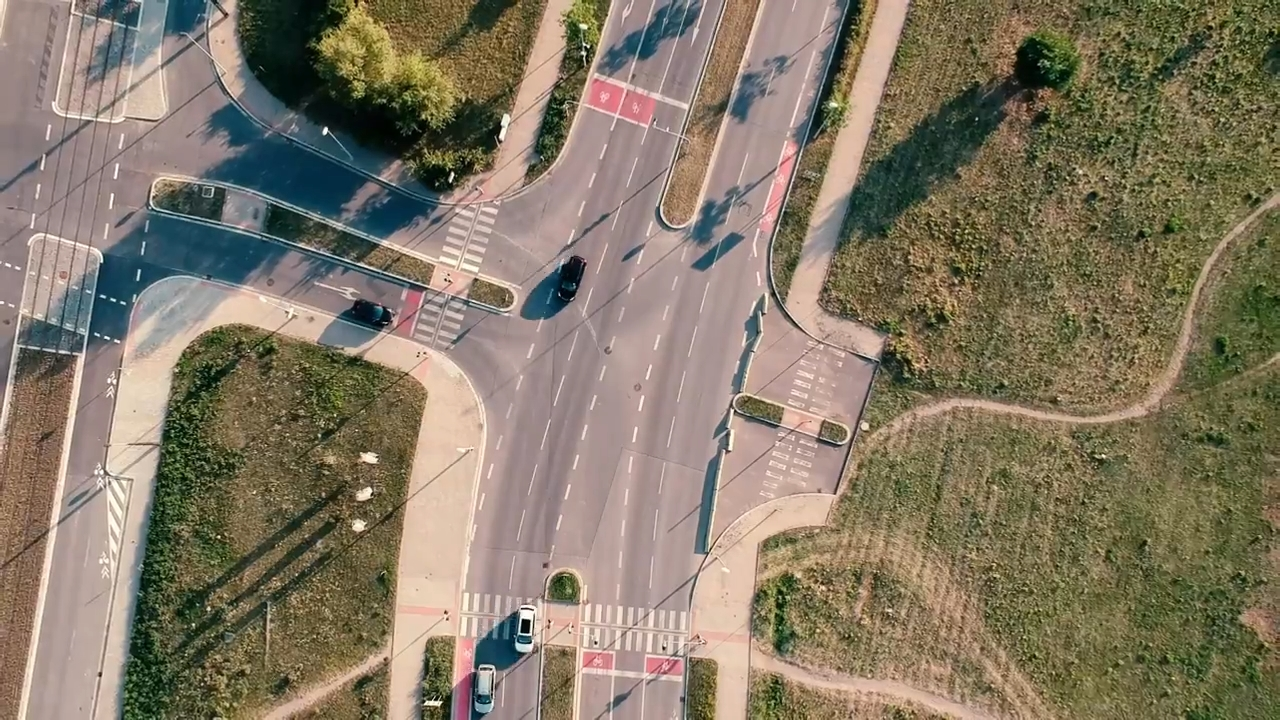car: (552, 253, 587, 307), (346, 298, 396, 327), (514, 603, 540, 654), (473, 662, 499, 712)
